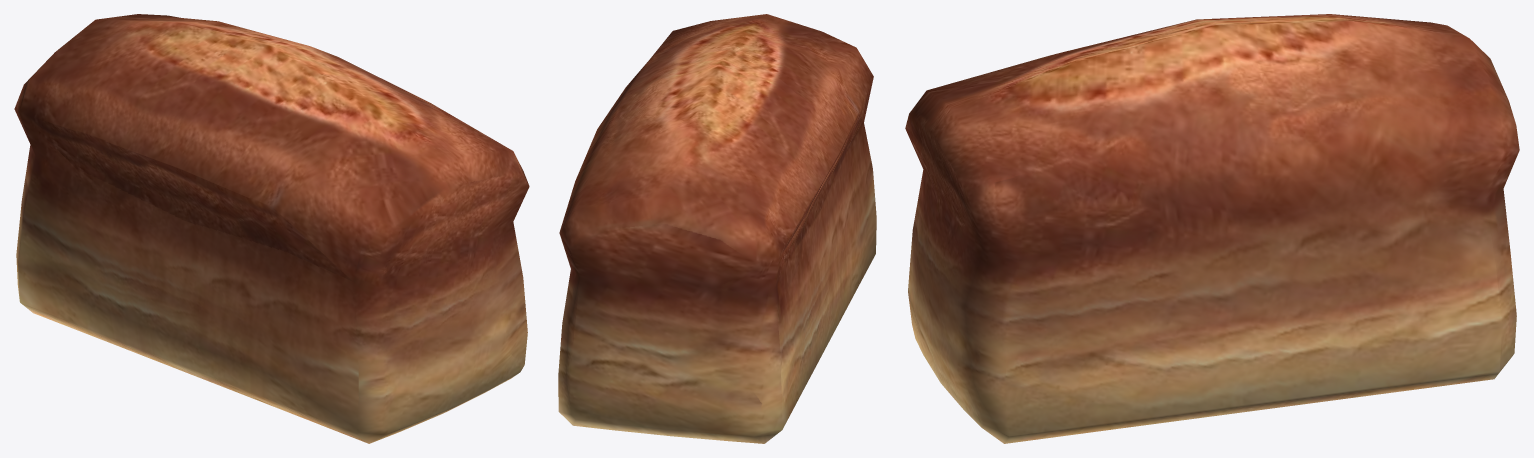
Rendered from breadloaf.fbx.
3 renders of one model, left to right at view 1: azimuth 30°, elevation 25°; view 2: azimuth 150°, elevation 25°; view 3: azimuth 270°, elevation 25°, orthographic. The views are drawn at different scales.
Parts seen in each view (by area): view 1: Bread_bread_Material.001; view 2: Bread_bread_Material.001; view 3: Bread_bread_Material.001.
Part boxes in pixels (x1,y1,x2,y2): Bread_bread_Material.001: [14, 14, 529, 443]; Bread_bread_Material.001: [558, 14, 876, 443]; Bread_bread_Material.001: [905, 14, 1519, 443].
Bounding box in the file's own units: 1.53 × 1.36 × 2.25.
Materials: 1 (1 with a texture image).
